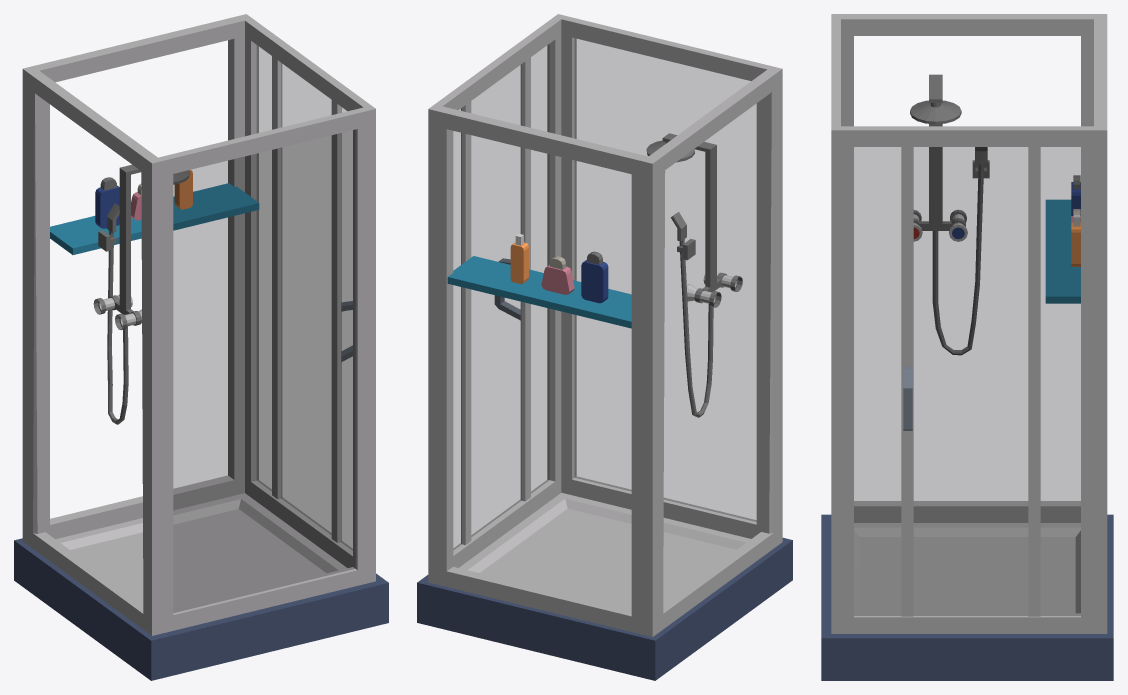
Rendered from SM_Shower_01.glb.
3 views of the same model, side by side, from view 1: azimuth 30°, elevation 25°; view 2: azimuth 150°, elevation 25°; view 3: azimuth 270°, elevation 25° (orthographic). The views are drawn at different scales.
Visible parts, largest first — view 1: SM_Shower_01; view 2: SM_Shower_01; view 3: SM_Shower_01.
Part boxes in pixels (left/top/right/bottom): SM_Shower_01: left=14, top=14, right=388, bottom=680; SM_Shower_01: left=417, top=14, right=792, bottom=680; SM_Shower_01: left=821, top=14, right=1113, bottom=680.
Bounding box in the file's own units: 1.15 × 2.21 × 1.07.
2 materials, 1 textured.
